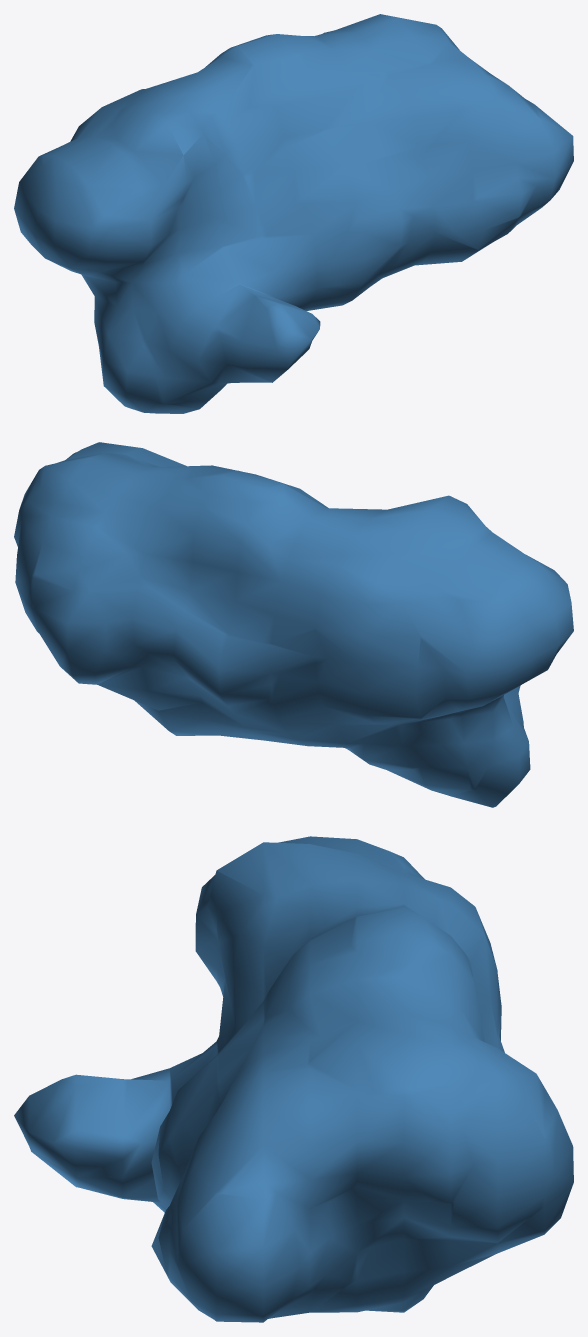
File: Vesicle_252_VGLUT1_10Aligned.dae
3 renders of one model, top to bottom at view 1: azimuth 30°, elevation 25°; view 2: azimuth 150°, elevation 25°; view 3: azimuth 270°, elevation 25°, orthographic. The views are drawn at different scales.
Parts seen in each view (by area): view 1: vesicle_MeshVes252Mesh; view 2: vesicle_MeshVes252Mesh; view 3: vesicle_MeshVes252Mesh.
Part boxes in pixels (x1,y1,x2,y2): vesicle_MeshVes252Mesh: (14,14,573,413); vesicle_MeshVes252Mesh: (14,442,573,807); vesicle_MeshVes252Mesh: (14,836,573,1322).
Size of the model in its own units: 101 by 55.83 by 67.41.
